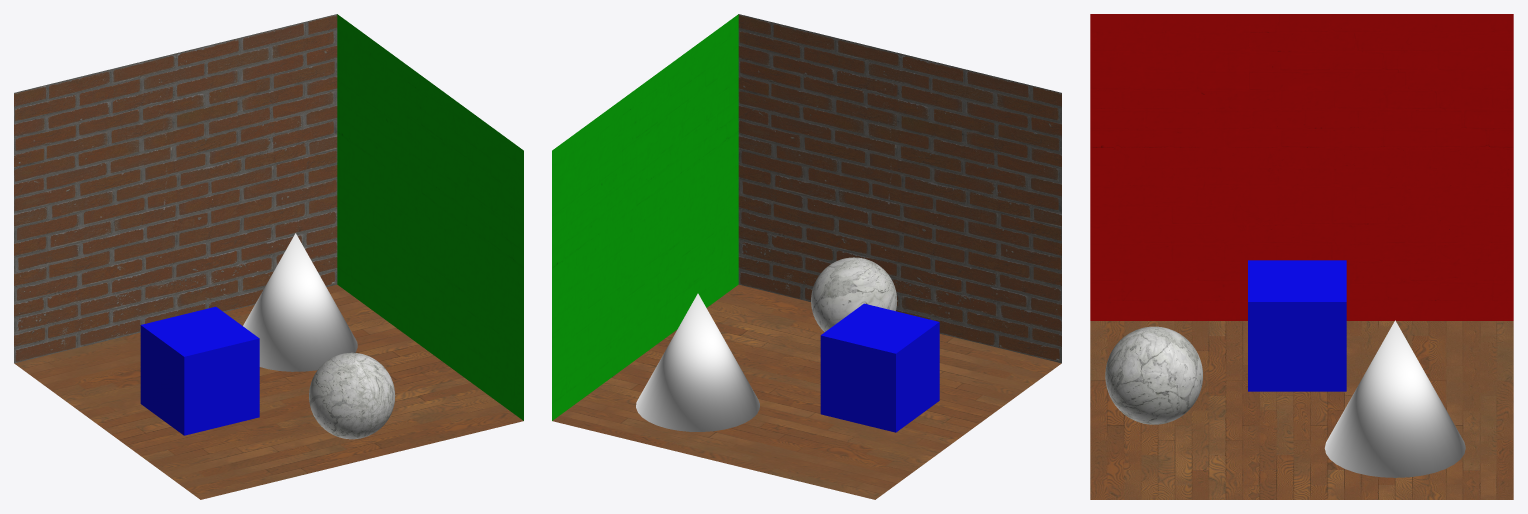
The model's file is cornellbox.glb.
3 renders of one model, left to right at view 1: azimuth 30°, elevation 25°; view 2: azimuth 150°, elevation 25°; view 3: azimuth 270°, elevation 25°, orthographic. The views are drawn at different scales.
Visible parts, largest first — view 1: Cube, Cube.001, Cone, Sphere; view 2: Cube, Cube.001, Cone, Sphere; view 3: Cube, Cube.001, Cone, Sphere.
Boxes of the visible parts, x1,y1,x2,y2 form: Cube: [14, 14, 523, 499]; Cube.001: [140, 306, 259, 435]; Cone: [243, 233, 357, 371]; Sphere: [309, 352, 395, 439]; Cube: [552, 14, 1061, 499]; Cube.001: [820, 303, 939, 432]; Cone: [636, 293, 759, 431]; Sphere: [811, 257, 897, 331]; Cube: [1090, 14, 1513, 499]; Cube.001: [1248, 260, 1346, 391]; Cone: [1324, 320, 1465, 477]; Sphere: [1105, 326, 1202, 424].
Bounding box in the file's own units: 6 × 4.8 × 6.
8 materials, 6 textured.
